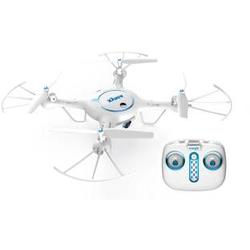drone: (1, 49, 235, 184)
